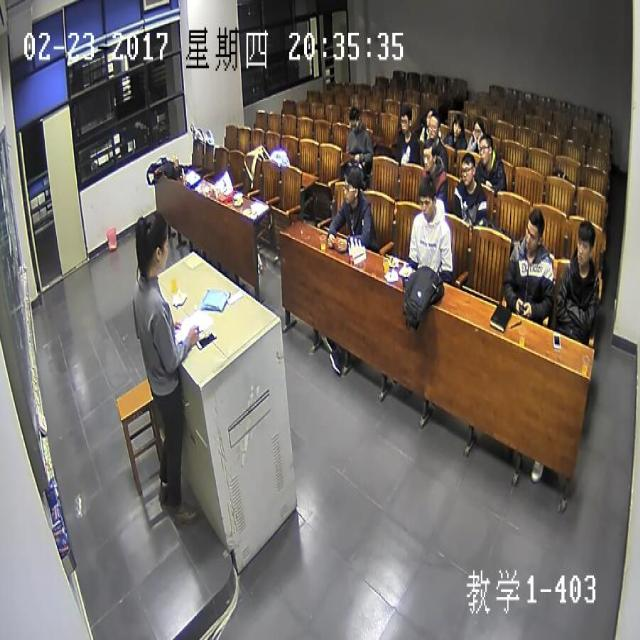person: (134, 210, 168, 278), (576, 218, 598, 270), (418, 176, 439, 220), (522, 210, 542, 250), (343, 161, 362, 202), (420, 138, 440, 174), (470, 113, 487, 149), (458, 150, 474, 186), (426, 115, 443, 146), (449, 110, 464, 143), (422, 102, 438, 132), (398, 106, 412, 136), (477, 134, 490, 166), (348, 104, 360, 132)
